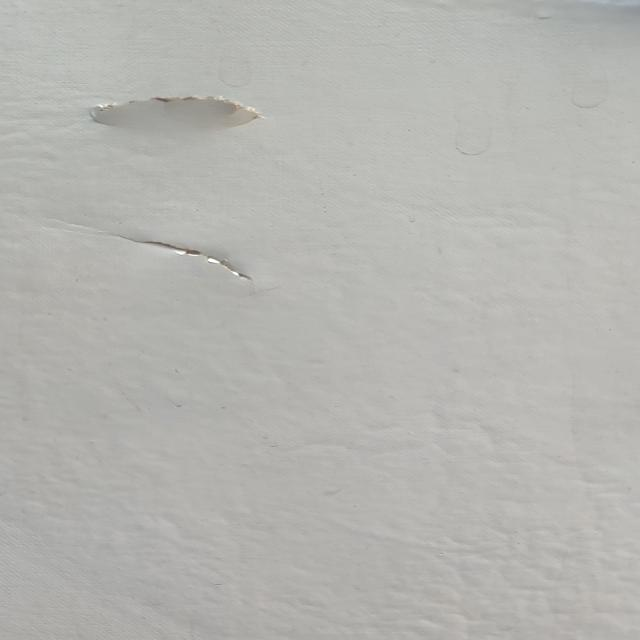Scratches: (118, 233, 300, 290), (74, 90, 265, 132)
